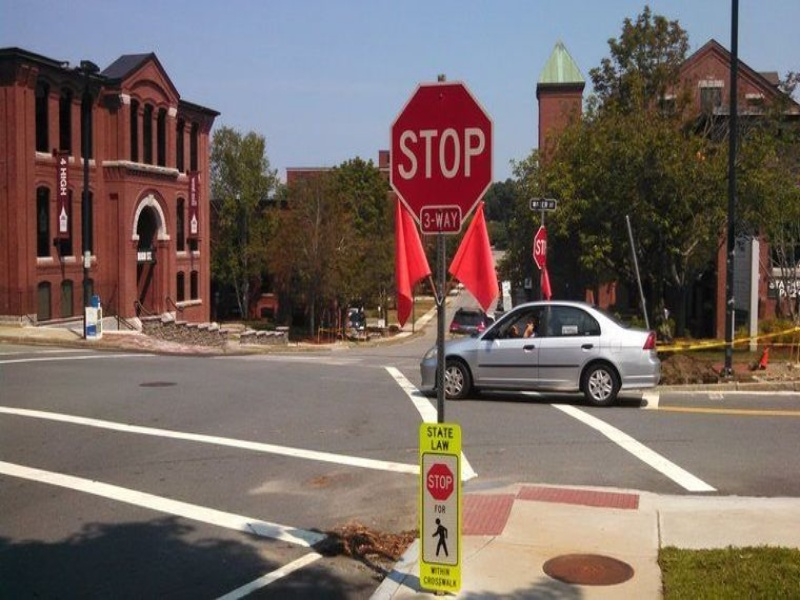stop sign: (388, 80, 495, 228), (423, 461, 455, 502), (530, 226, 550, 272)
